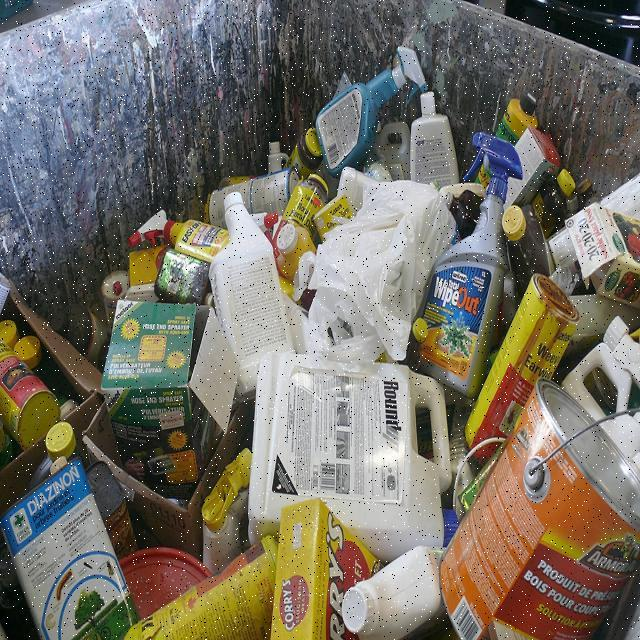Garbage: (0, 47, 640, 640)
Glass_bottle: (502, 206, 554, 296), (282, 174, 329, 240), (58, 306, 108, 367), (532, 169, 575, 237), (440, 188, 484, 239), (286, 128, 322, 178)
Plastic: (120, 548, 210, 619), (45, 422, 76, 460), (14, 336, 42, 369), (0, 321, 19, 349)
Plastic_Bag: (309, 180, 454, 363)
Plastic_Container: (250, 353, 450, 563), (420, 131, 522, 397), (210, 191, 294, 396), (125, 536, 278, 638), (316, 47, 428, 177), (342, 546, 441, 640), (562, 317, 640, 420), (202, 448, 251, 573), (129, 210, 229, 262), (410, 92, 459, 188), (276, 223, 316, 280), (495, 92, 538, 145), (376, 122, 410, 180), (604, 414, 640, 458), (400, 319, 429, 371), (268, 142, 289, 174), (250, 212, 279, 232), (479, 167, 489, 187)
Tin_box: (440, 381, 640, 639), (0, 459, 139, 638), (465, 274, 579, 448), (0, 339, 60, 450), (209, 169, 300, 228), (86, 461, 138, 559), (154, 249, 210, 305)
